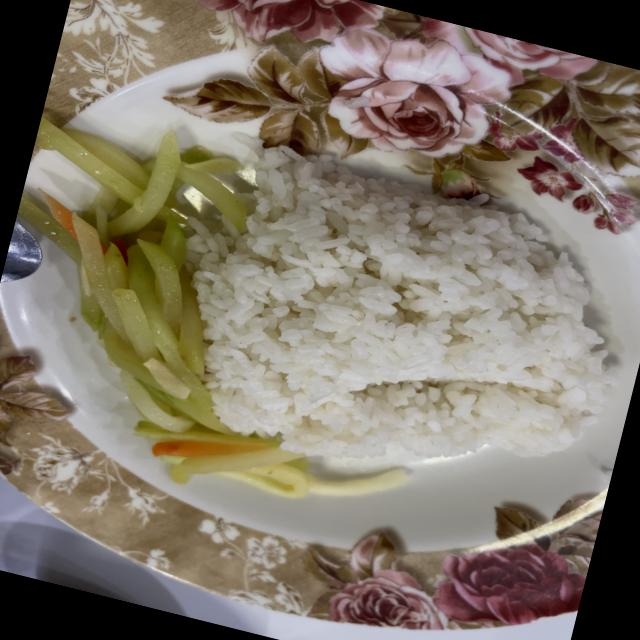com: (186, 146, 614, 459)
rau: (17, 117, 406, 498)
